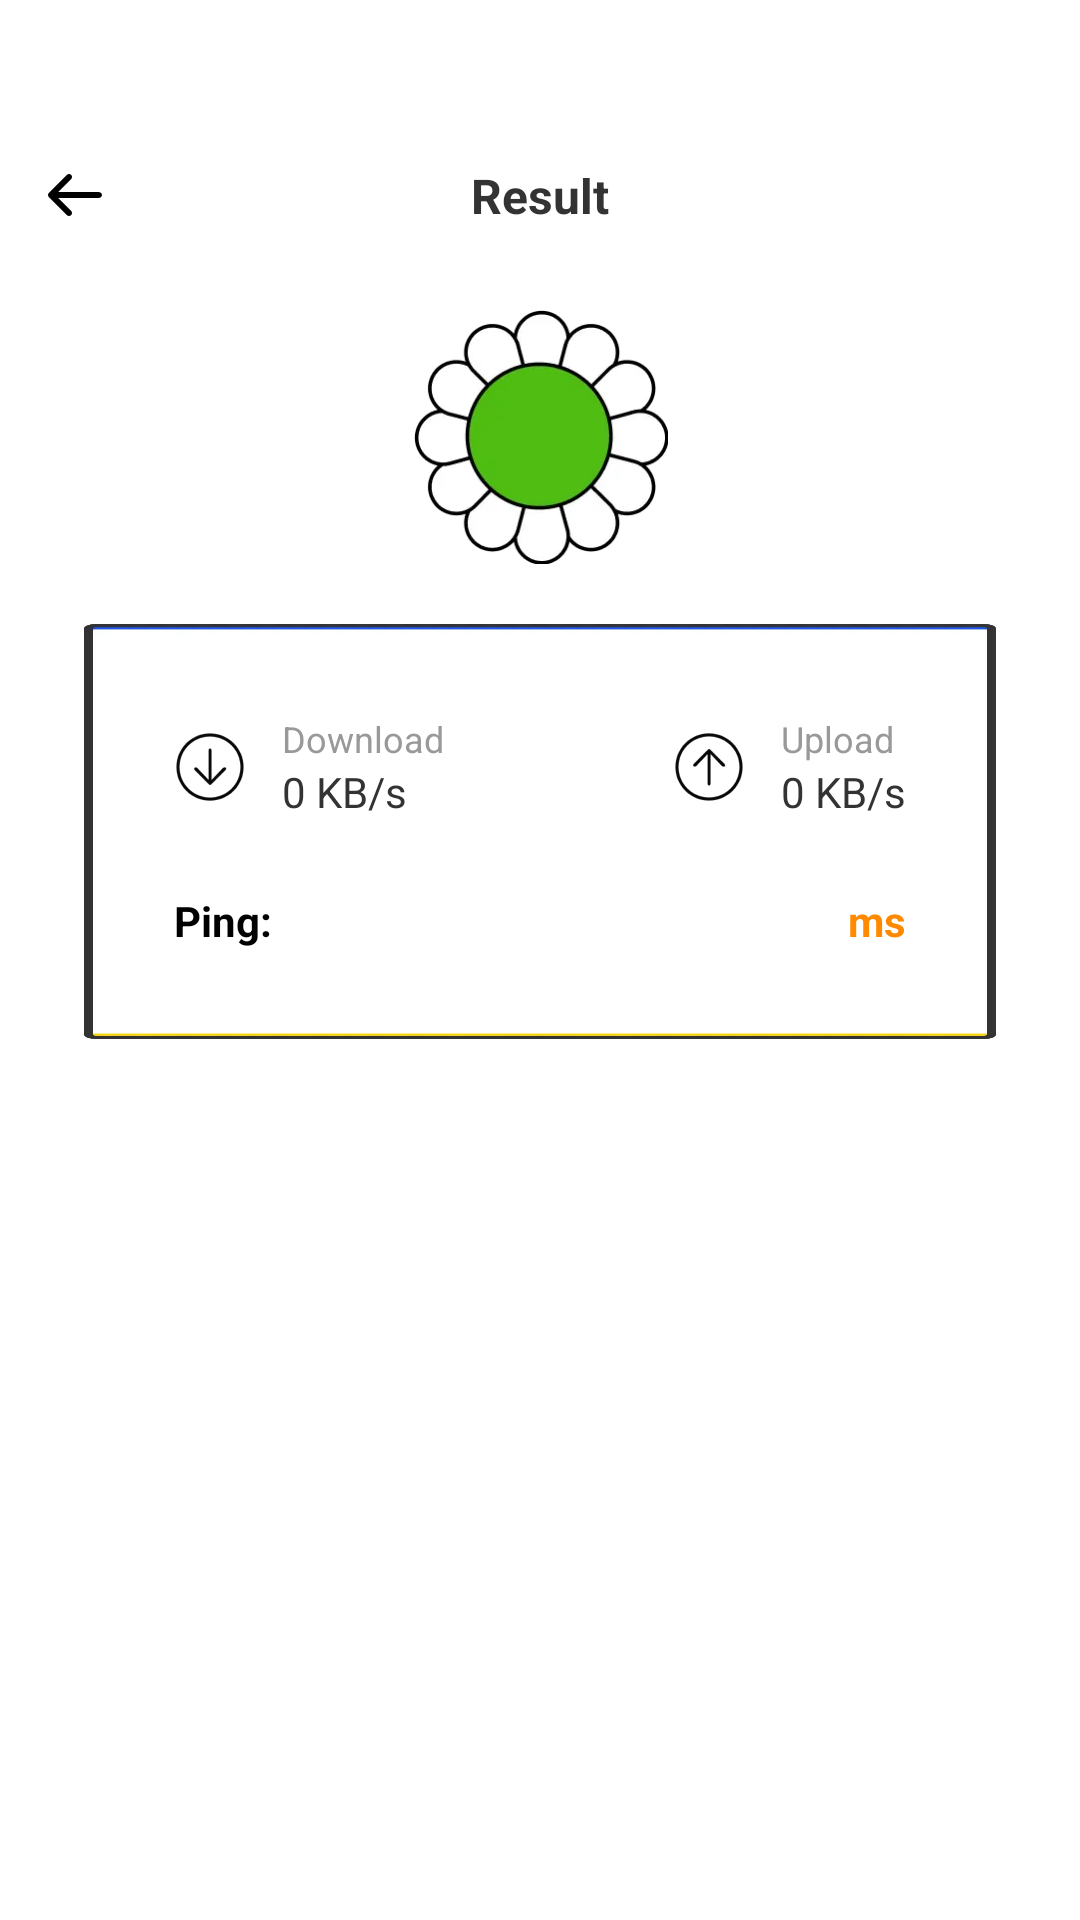

Icon bounding boxes for this 1080*1920 phone screenshot, format (x1, y1, x2, y2):
back: (48, 174, 102, 216)
